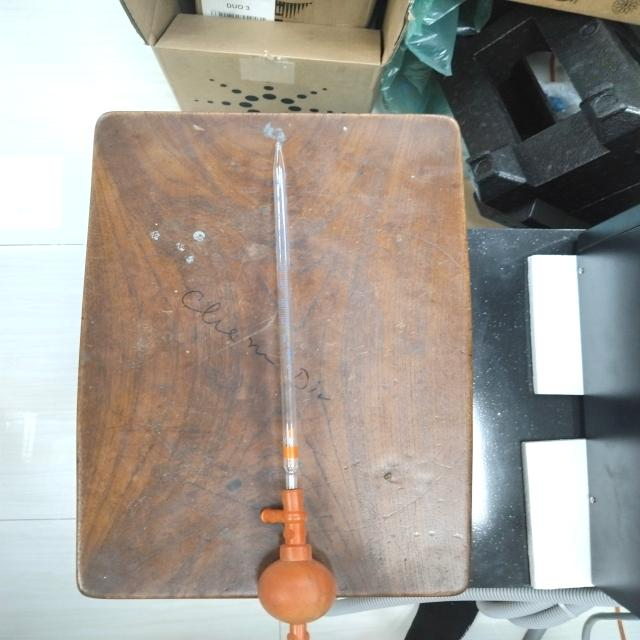Volumetric_Pipet: (225, 127, 360, 639)
